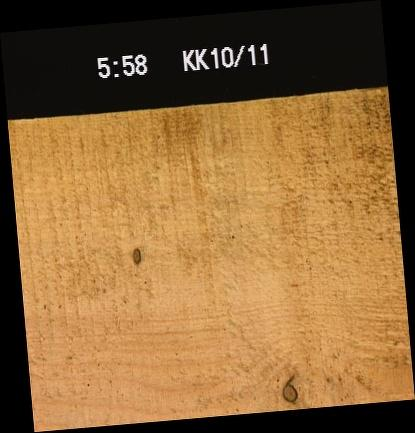dry_knot: (129, 245, 140, 265)
